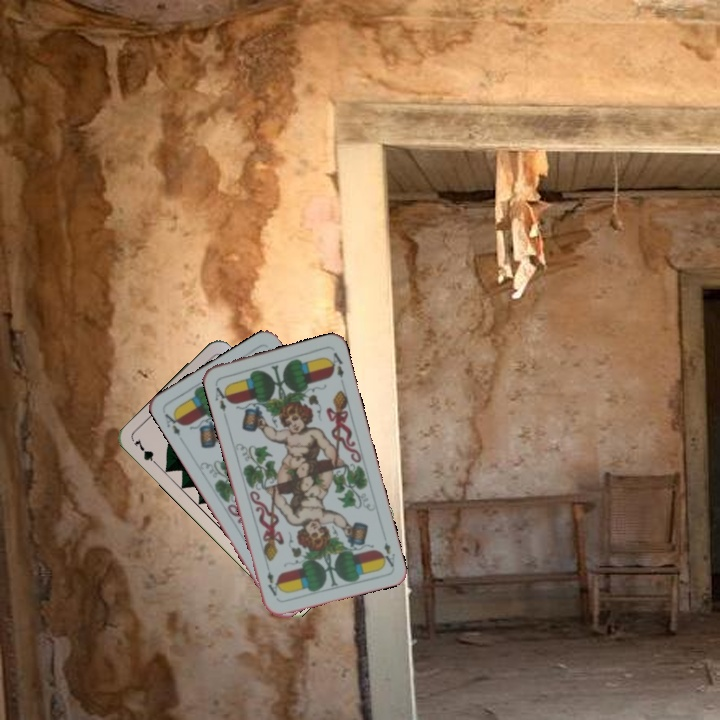EA: (160, 407, 185, 438), (211, 379, 232, 414), (377, 538, 398, 569)
G7: (130, 434, 162, 470)
